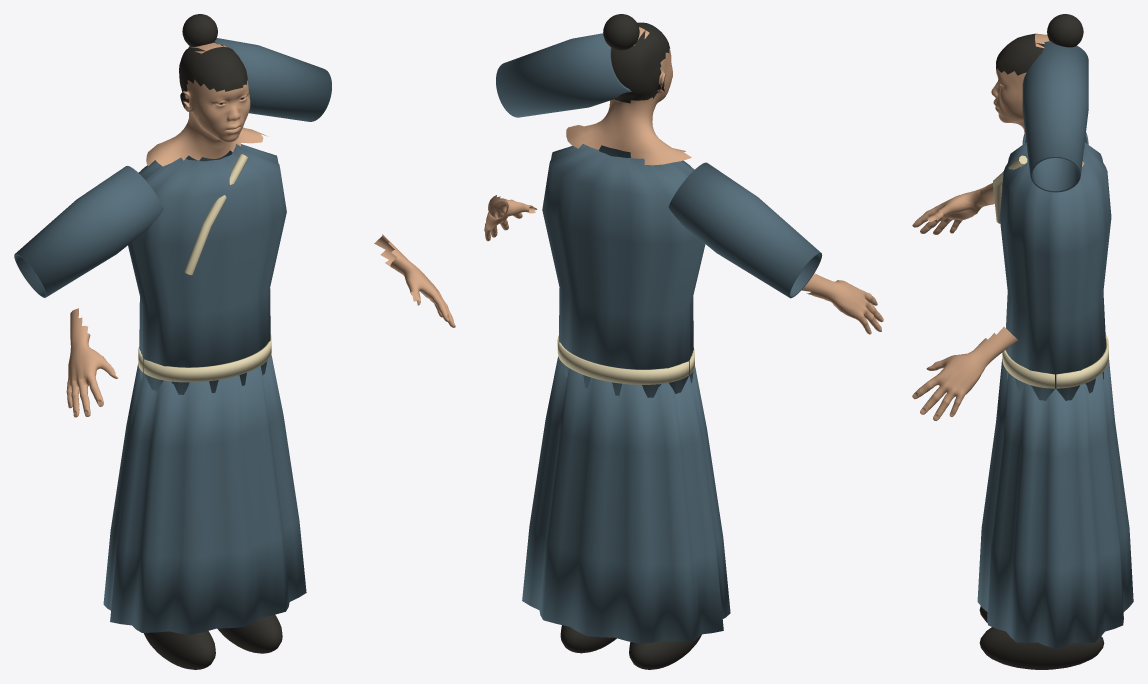
Rendered from resident-male.glb.
The picture shows the model from 3 angles, left to right: view 1: azimuth 30°, elevation 25°; view 2: azimuth 150°, elevation 25°; view 3: azimuth 270°, elevation 25°; orthographic projection. The views are drawn at different scales.
Visible parts, largest first — view 1: round collar resident pleated skirt or robe, round collar resident shaped upper garment, round collar resident natural adult head neck and hands, round collar resident sleeve, round collar resident sleeve.001, round collar resident fitted natural scalp hair, round collar resident belt, shoe, shoe.001, diagonal collar seam, tied hair; view 2: round collar resident pleated skirt or robe, round collar resident shaped upper garment, round collar resident sleeve, round collar resident natural adult head neck and hands, round collar resident sleeve.001, round collar resident fitted natural scalp hair, round collar resident belt, shoe, tied hair, shoe.001; view 3: round collar resident pleated skirt or robe, round collar resident shaped upper garment, round collar resident sleeve.001, round collar resident natural adult head neck and hands, shoe.001, round collar resident belt, round collar resident fitted natural scalp hair, tied hair, diagonal collar seam.
Part boxes in pixels (x1,y1,x2,y2): round collar resident pleated skirt or robe: (103, 355, 306, 634); round collar resident shaped upper garment: (128, 144, 286, 394); round collar resident natural adult head neck and hands: (66, 42, 455, 417); round collar resident sleeve: (14, 166, 163, 297); round collar resident sleeve.001: (188, 38, 331, 121); round collar resident fitted natural scalp hair: (179, 44, 247, 108); round collar resident belt: (138, 334, 271, 382); shoe: (143, 631, 215, 669); shoe.001: (217, 615, 282, 653); diagonal collar seam: (184, 154, 248, 275); tied hair: (182, 14, 217, 46); round collar resident pleated skirt or robe: (522, 356, 730, 643); round collar resident shaped upper garment: (542, 144, 705, 397); round collar resident sleeve: (668, 162, 822, 298); round collar resident natural adult head neck and hands: (484, 27, 883, 334); round collar resident sleeve.001: (496, 33, 631, 117); round collar resident fitted natural scalp hair: (611, 22, 670, 103); round collar resident belt: (557, 335, 694, 384); shoe: (629, 634, 701, 669); tied hair: (603, 14, 639, 50); shoe.001: (560, 625, 616, 653); round collar resident pleated skirt or robe: (977, 359, 1133, 648); round collar resident shaped upper garment: (999, 142, 1111, 400); round collar resident sleeve.001: (1022, 41, 1088, 192); round collar resident natural adult head neck and hands: (912, 33, 1084, 420); shoe.001: (979, 627, 1104, 669); round collar resident belt: (1002, 334, 1108, 388); round collar resident fitted natural scalp hair: (996, 33, 1044, 75); tied hair: (1047, 14, 1083, 47); diagonal collar seam: (992, 155, 1027, 223).
Size of the model in its own units: 1.14 by 1.8 by 0.5683.
